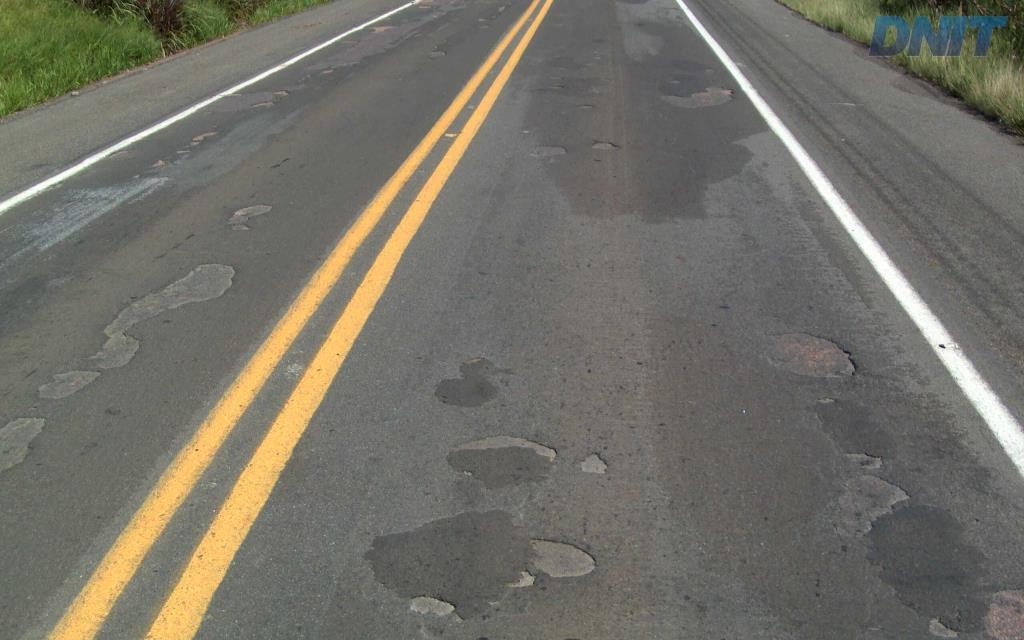pothole: (747, 326, 865, 385), (830, 475, 917, 545), (514, 530, 605, 579), (654, 80, 740, 115), (446, 432, 560, 458), (399, 583, 466, 624), (574, 446, 618, 481), (837, 445, 892, 469), (913, 616, 964, 638), (496, 569, 537, 595), (585, 133, 627, 157), (574, 100, 599, 112)
